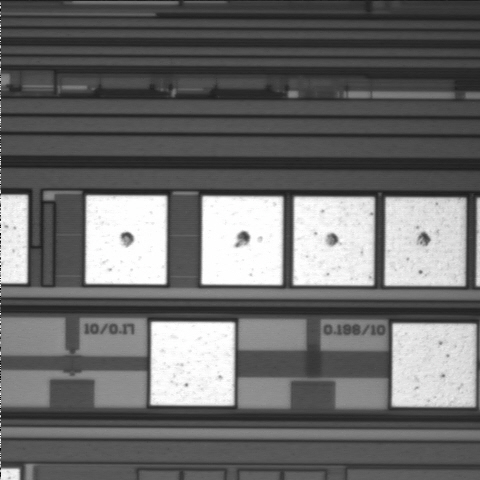pad: (85, 195, 167, 284), (201, 196, 283, 285), (293, 197, 374, 286), (150, 322, 235, 406), (385, 198, 466, 286), (392, 324, 476, 407)
